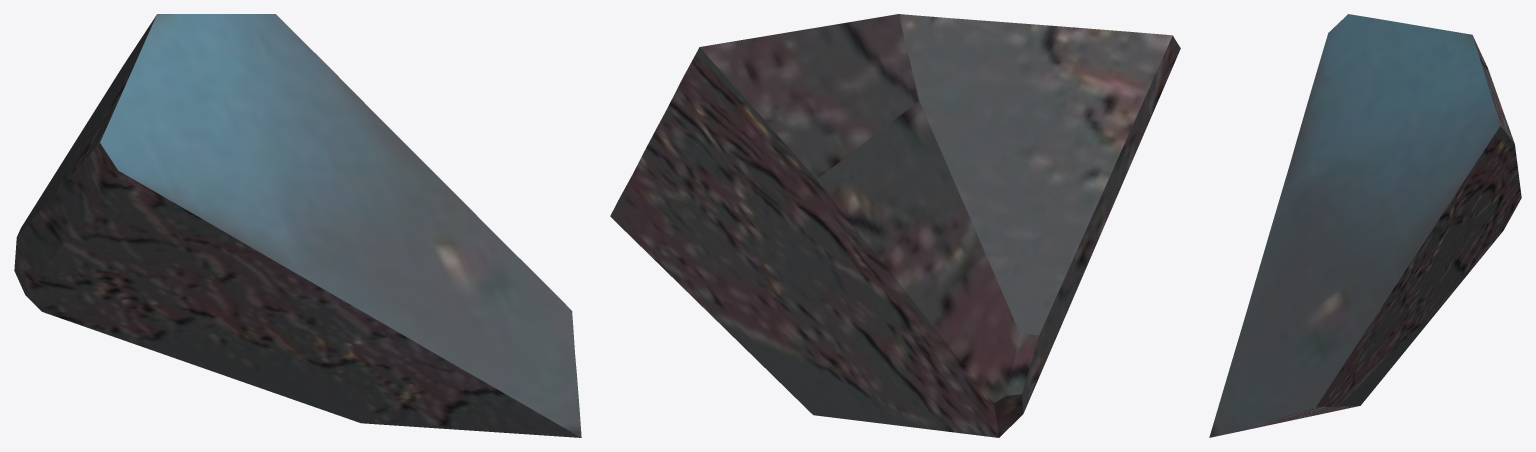
File: ptr5.glb
3 renders of one model, left to right at view 1: azimuth 30°, elevation 25°; view 2: azimuth 150°, elevation 25°; view 3: azimuth 270°, elevation 25°, orthographic. The views are drawn at different scales.
Visible parts, largest first — view 1: polySurface950; view 2: polySurface950; view 3: polySurface950.
Part boxes in pixels (bbox=[...]): polySurface950: bbox=[14, 14, 581, 437]; polySurface950: bbox=[610, 14, 1180, 437]; polySurface950: bbox=[1209, 14, 1521, 437].
Size of the model in its own units: 0.2125 by 0.1758 by 0.1567.
1 material, 1 textured.
